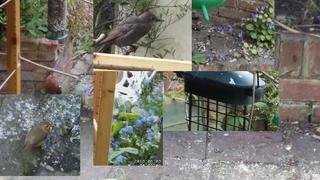robin: (22, 121, 54, 155)
starling: (97, 11, 165, 56)
